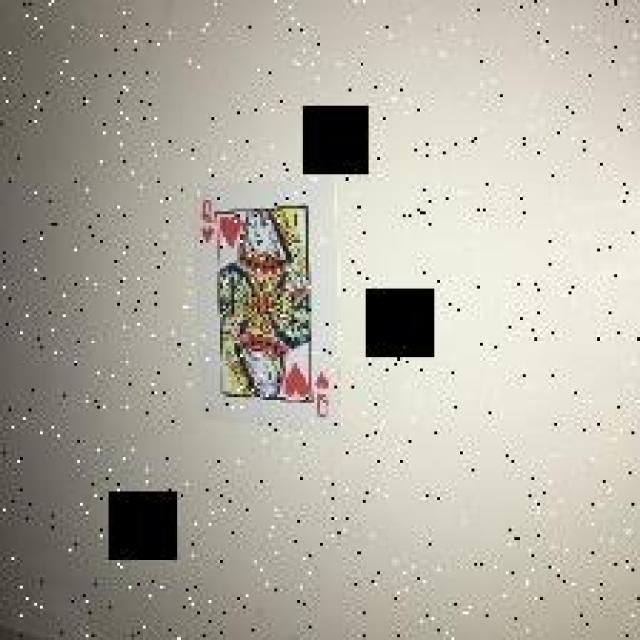Queen of hearts: (195, 184, 340, 424)
